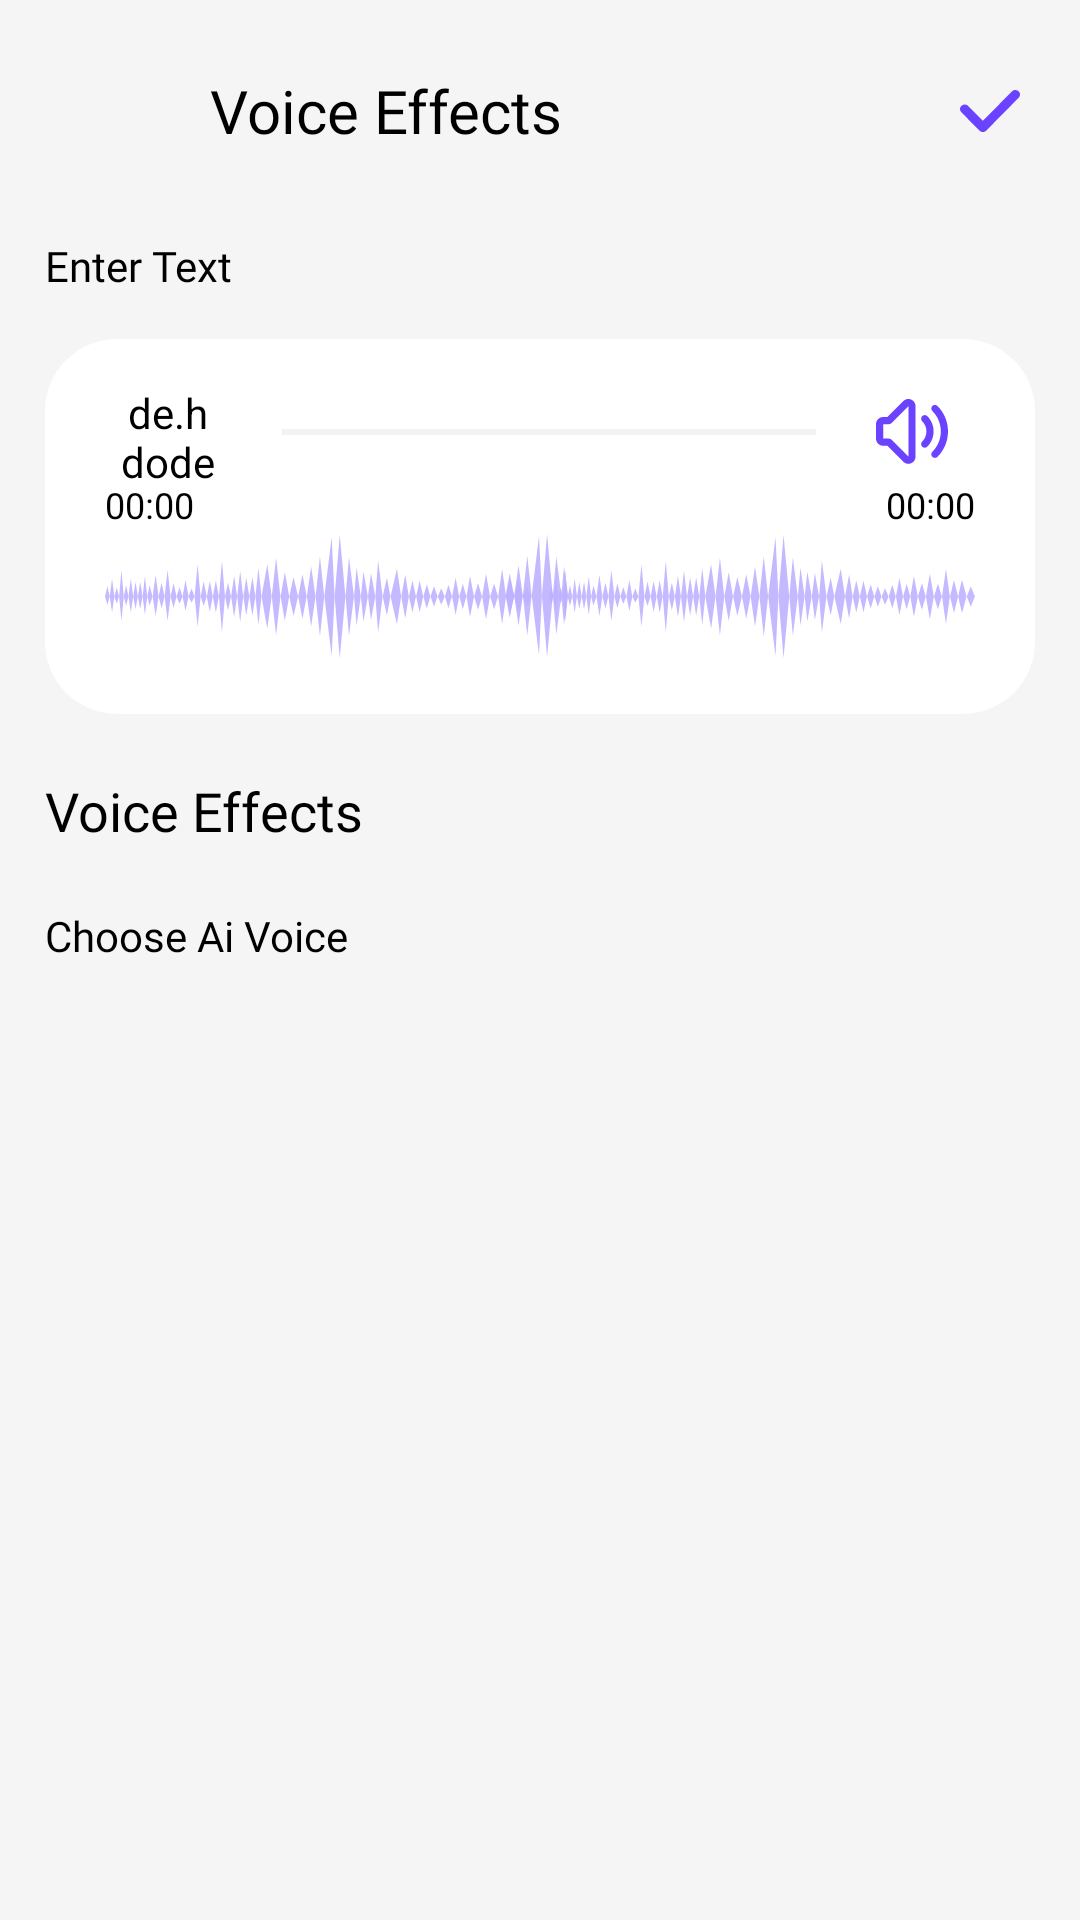

Icons on this 1080px x 1920px Android screen, each with its box as Rect(x1, y1, x2, y2):
tick: Rect(960, 90, 1020, 132)
volumebutton: Rect(876, 399, 948, 464)
